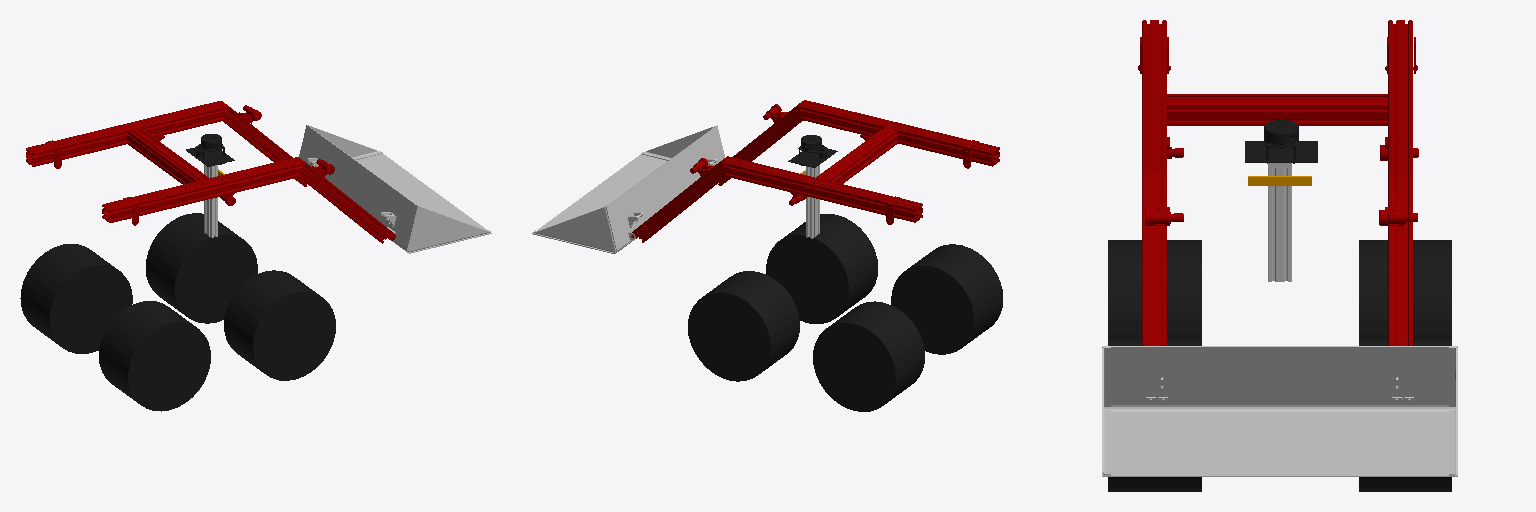
The robot description file, URDF, robot "emcee":
<?xml version="1.0" ?>
<!-- =================================================================================== -->
<!-- |    This document was autogenerated by xacro from emcee.urdf.xacro               | -->
<!-- |    EDITING THIS FILE BY HAND IS NOT RECOMMENDED                                 | -->
<!-- =================================================================================== -->
<robot name="emcee" xmlns:xacro="http://www.ros.org/wiki/xacro">
  <material name="dark_grey">
    <color rgba="0.2 0.2 0.2 1.0"/>
  </material>
  <material name="light_grey">
    <color rgba="0.4 0.4 0.4 1.0"/>
  </material>
  <material name="stl">
    <color rgba="0.8 0.8 0.0 1.0"/>
  </material>
  <material name="red">
    <color rgba="0.95 0.26 0.21 1.0"/>
  </material>
  <material name="black">
    <color rgba="0.15 0.15 0.15 1.0"/>
  </material>
  <material name="green">
    <color rgba="0 1 0 1"/>
  </material>
  <link name="left_front_wheel_link">
    <visual>
      <origin rpy="1.57079632679 0 0" xyz="0 0 0"/>
      <geometry>
        <!-- <mesh filename="package://emcee_description/meshes/visual/wheel.dae"/> -->
        <cylinder length="0.1905" radius="0.156369"/>
      </geometry>
      <material name="black"/>
    </visual>
    <collision>
      <origin rpy="1.57079632679 0 0" xyz="0 0 0"/>
      <geometry>
        <cylinder length="0.1905" radius="0.156369"/>
      </geometry>
    </collision>
    <inertial>
      <!-- <origin xyz="0.032464 0 0" rpy="0 0 0"/> -->
      <origin rpy="1.57079632679 0 1.57079632679" xyz="0 0 0"/>
      <!-- <mass value="1" /> -->
      <mass value="8.6"/>
      <!-- moment of inertia of a cylinder https://en.wikipedia.org/wiki/List_of_moments_of_inertia#List_of_3D_inertia_tensors -->
      <inertia ixx="0.0785782304" ixy="0" ixz="0" iyy="0.0785782304" iyz="0" izz="0.1051404359"/>
      <!-- <inertia
          ixx="${(1.0/12.0)*8.6*(3*wheel_radius**2 + wheel_width**2)}" ixy="0" ixz="0"
          iyy="${(1.0/12.0)*8.6*(3*wheel_radius**2 + wheel_width**2)}" iyz="0"
          izz="${0.5*8.6*wheel_radius}"/> -->
    </inertial>
  </link>
  <gazebo reference="left_front_wheel_link">
    <!-- TODO: set these constants. They are just taken from urdf_tutorial. 09 -->
    <mu1 value="200.0"/>
    <mu2 value="100.0"/>
    <mu1>1.5</mu1>
    <mu2>1.5</mu2>
    <minDepth>0.00</minDepth>
    <material>Gazebo/DarkGrey</material>
  </gazebo>
  <joint name="left_front_wheel" type="continuous">
    <parent link="chassis"/>
    <child link="left_front_wheel_link"/>
    <origin rpy="0 0 0" xyz="0.32245 0.2548 -0.0762"/>
    <axis xyz="0 1 0"/>
  </joint>
  <!-- TODO: figure out what these are for -->
  <transmission name="left_front_wheel_trans">
    <type>transmission_interface/SimpleTransmission</type>
    <joint name="left_front_wheel">
      <hardwareInterface>VelocityJointInterface</hardwareInterface>
    </joint>
    <actuator name="left_front_actuator">
      <mechanicalReduction>1</mechanicalReduction>
    </actuator>
  </transmission>
  <link name="left_rear_wheel_link">
    <visual>
      <origin rpy="1.57079632679 0 0" xyz="0 0 0"/>
      <geometry>
        <!-- <mesh filename="package://emcee_description/meshes/visual/wheel.dae"/> -->
        <cylinder length="0.1905" radius="0.156369"/>
      </geometry>
      <material name="black"/>
    </visual>
    <collision>
      <origin rpy="1.57079632679 0 0" xyz="0 0 0"/>
      <geometry>
        <cylinder length="0.1905" radius="0.156369"/>
      </geometry>
    </collision>
    <inertial>
      <!-- <origin xyz="0.032464 0 0" rpy="0 0 0"/> -->
      <origin rpy="1.57079632679 0 1.57079632679" xyz="0 0 0"/>
      <!-- <mass value="1" /> -->
      <mass value="8.6"/>
      <!-- moment of inertia of a cylinder https://en.wikipedia.org/wiki/List_of_moments_of_inertia#List_of_3D_inertia_tensors -->
      <inertia ixx="0.0785782304" ixy="0" ixz="0" iyy="0.0785782304" iyz="0" izz="0.1051404359"/>
      <!-- <inertia
          ixx="${(1.0/12.0)*8.6*(3*wheel_radius**2 + wheel_width**2)}" ixy="0" ixz="0"
          iyy="${(1.0/12.0)*8.6*(3*wheel_radius**2 + wheel_width**2)}" iyz="0"
          izz="${0.5*8.6*wheel_radius}"/> -->
    </inertial>
  </link>
  <gazebo reference="left_rear_wheel_link">
    <!-- TODO: set these constants. They are just taken from urdf_tutorial. 09 -->
    <mu1 value="200.0"/>
    <mu2 value="100.0"/>
    <mu1>1.5</mu1>
    <mu2>1.5</mu2>
    <minDepth>0.00</minDepth>
    <material>Gazebo/DarkGrey</material>
  </gazebo>
  <joint name="left_rear_wheel" type="continuous">
    <parent link="chassis"/>
    <child link="left_rear_wheel_link"/>
    <origin rpy="0 0 0" xyz="-0.1478 0.2548 -0.0762"/>
    <axis xyz="0 1 0"/>
  </joint>
  <!-- TODO: figure out what these are for -->
  <transmission name="left_rear_wheel_trans">
    <type>transmission_interface/SimpleTransmission</type>
    <joint name="left_rear_wheel">
      <hardwareInterface>VelocityJointInterface</hardwareInterface>
    </joint>
    <actuator name="left_rear_actuator">
      <mechanicalReduction>1</mechanicalReduction>
    </actuator>
  </transmission>
  <link name="right_front_wheel_link">
    <visual>
      <origin rpy="1.57079632679 0 0" xyz="0 0 0"/>
      <geometry>
        <!-- <mesh filename="package://emcee_description/meshes/visual/wheel.dae"/> -->
        <cylinder length="0.1905" radius="0.156369"/>
      </geometry>
      <material name="black"/>
    </visual>
    <collision>
      <origin rpy="1.57079632679 0 0" xyz="0 0 0"/>
      <geometry>
        <cylinder length="0.1905" radius="0.156369"/>
      </geometry>
    </collision>
    <inertial>
      <!-- <origin xyz="0.032464 0 0" rpy="0 0 0"/> -->
      <origin rpy="1.57079632679 0 1.57079632679" xyz="0 0 0"/>
      <!-- <mass value="1" /> -->
      <mass value="8.6"/>
      <!-- moment of inertia of a cylinder https://en.wikipedia.org/wiki/List_of_moments_of_inertia#List_of_3D_inertia_tensors -->
      <inertia ixx="0.0785782304" ixy="0" ixz="0" iyy="0.0785782304" iyz="0" izz="0.1051404359"/>
      <!-- <inertia
          ixx="${(1.0/12.0)*8.6*(3*wheel_radius**2 + wheel_width**2)}" ixy="0" ixz="0"
          iyy="${(1.0/12.0)*8.6*(3*wheel_radius**2 + wheel_width**2)}" iyz="0"
          izz="${0.5*8.6*wheel_radius}"/> -->
    </inertial>
  </link>
  <gazebo reference="right_front_wheel_link">
    <!-- TODO: set these constants. They are just taken from urdf_tutorial. 09 -->
    <mu1 value="200.0"/>
    <mu2 value="100.0"/>
    <mu1>1.5</mu1>
    <mu2>1.5</mu2>
    <minDepth>0.00</minDepth>
    <material>Gazebo/DarkGrey</material>
  </gazebo>
  <joint name="right_front_wheel" type="continuous">
    <parent link="chassis"/>
    <child link="right_front_wheel_link"/>
    <origin rpy="3.14159265359 0 0" xyz="0.32245 -0.2548 -0.0762"/>
    <axis xyz="0 1 0"/>
  </joint>
  <!-- TODO: figure out what these are for -->
  <transmission name="right_front_wheel_trans">
    <type>transmission_interface/SimpleTransmission</type>
    <joint name="right_front_wheel">
      <hardwareInterface>VelocityJointInterface</hardwareInterface>
    </joint>
    <actuator name="right_front_actuator">
      <mechanicalReduction>1</mechanicalReduction>
    </actuator>
  </transmission>
  <link name="right_rear_wheel_link">
    <visual>
      <origin rpy="1.57079632679 0 0" xyz="0 0 0"/>
      <geometry>
        <!-- <mesh filename="package://emcee_description/meshes/visual/wheel.dae"/> -->
        <cylinder length="0.1905" radius="0.156369"/>
      </geometry>
      <material name="black"/>
    </visual>
    <collision>
      <origin rpy="1.57079632679 0 0" xyz="0 0 0"/>
      <geometry>
        <cylinder length="0.1905" radius="0.156369"/>
      </geometry>
    </collision>
    <inertial>
      <!-- <origin xyz="0.032464 0 0" rpy="0 0 0"/> -->
      <origin rpy="1.57079632679 0 1.57079632679" xyz="0 0 0"/>
      <!-- <mass value="1" /> -->
      <mass value="8.6"/>
      <!-- moment of inertia of a cylinder https://en.wikipedia.org/wiki/List_of_moments_of_inertia#List_of_3D_inertia_tensors -->
      <inertia ixx="0.0785782304" ixy="0" ixz="0" iyy="0.0785782304" iyz="0" izz="0.1051404359"/>
      <!-- <inertia
          ixx="${(1.0/12.0)*8.6*(3*wheel_radius**2 + wheel_width**2)}" ixy="0" ixz="0"
          iyy="${(1.0/12.0)*8.6*(3*wheel_radius**2 + wheel_width**2)}" iyz="0"
          izz="${0.5*8.6*wheel_radius}"/> -->
    </inertial>
  </link>
  <gazebo reference="right_rear_wheel_link">
    <!-- TODO: set these constants. They are just taken from urdf_tutorial. 09 -->
    <mu1 value="200.0"/>
    <mu2 value="100.0"/>
    <mu1>1.5</mu1>
    <mu2>1.5</mu2>
    <minDepth>0.00</minDepth>
    <material>Gazebo/DarkGrey</material>
  </gazebo>
  <joint name="right_rear_wheel" type="continuous">
    <parent link="chassis"/>
    <child link="right_rear_wheel_link"/>
    <origin rpy="3.14159265359 0 0" xyz="-0.1478 -0.2548 -0.0762"/>
    <axis xyz="0 1 0"/>
  </joint>
  <!-- TODO: figure out what these are for -->
  <transmission name="right_rear_wheel_trans">
    <type>transmission_interface/SimpleTransmission</type>
    <joint name="right_rear_wheel">
      <hardwareInterface>VelocityJointInterface</hardwareInterface>
    </joint>
    <actuator name="right_rear_actuator">
      <mechanicalReduction>1</mechanicalReduction>
    </actuator>
  </transmission>
  <link name="base_link"/>
  <joint name="chassis_base_joiint" type="fixed">
    <parent link="base_link"/>
    <child link="chassis"/>
    <origin xyz="0 0 0.232569"/>
  </joint>
  <link name="chassis">
    <visual>
      <origin rpy="0 0 0" xyz="0 0 0"/>
      <geometry>
        <mesh filename="package://emcee_description/meshes/visual/chassis.dae"/>
      </geometry>
      <material name="red"/>
    </visual>
    <collision>
      <origin xyz="0.03 0 0"/>
      <geometry>
        <box size="0.81 0.3191 0.24765"/>
      </geometry>
    </collision>
    <inertial>
      <origin rpy="0 0 0" xyz="0.1 0 0"/>
      <!-- <origin xyz="0.39809 0.40556 0.64213" rpy="0 0 0" /> -->
      <!-- <mass value="1" /> -->
      <mass value="18.65"/>
      <inertia ixx="0.541922" ixy="2.8e-5" ixz="-0.01424" iyy="1.50291" iyz="0.000144" izz="1.71709"/>
    </inertial>
  </link>
  <link name="sled">
    <visual>
      <geometry>
        <mesh filename="package://emcee_description/meshes/visual/sled.dae"/>
      </geometry>
      <origin rpy="0 0 0" xyz="0 0 0"/>
      <material name="green"/>
    </visual>
    <collision>
      <origin xyz="0 0 0"/>
      <geometry>
        <mesh filename="package://emcee_description/meshes/collision/sled_simple.dae"/>
        <!-- <box size="${sled_width} ${sled_length} ${sled_height}"/> -->
      </geometry>
    </collision>
    <inertial>
      <origin rpy="0 0 0" xyz="0 0 0"/>
      <!-- <origin xyz="0.2882 0.052765 0.007624" rpy="0 0 0" /> -->
      <!-- <mass value="1" /> -->
      <mass value="12.25"/>
      <inertia ixx="0.225942" ixy="-5.6e-5" ixz="0.041831" iyy="0.162776" iyz="4.5e-5" izz="0.312502"/>
    </inertial>
  </link>
  <joint name="sled_joint" type="prismatic">
    <parent link="chassis"/>
    <child link="sled"/>
    <axis rpy="0 0 0" xyz="1 0 0"/>
    <limit effort="1000" lower="-0.204975" upper="0.103375" velocity="0.5"/>
    <origin rpy="0 0 0" xyz="0 0 0.163825"/>
  </joint>
  <link name="sensor_post">
    <visual>
      <geometry>
        <mesh filename="package://emcee_description/meshes/visual/sensor_post.dae"/>
      </geometry>
    </visual>
    <collision>
      <origin xyz="0 0 0"/>
      <geometry>
        <box size="0.0254 0.0508 0.3048"/>
      </geometry>
    </collision>
    <inertial>
      <!-- xyz = 0.1365 0.11018 0.25799 -->
      <origin rpy="0 0 0" xyz="0 0 0"/>
      <!-- <mass value="1"/> -->
      <mass value="0.421686"/>
      <inertia ixx="0.003291" ixy="-2e-6" ixz="0" iyy="0.00014" iyz="0" izz="0.003203"/>
    </inertial>
  </link>
  <joint name="sensor_post_joint" type="fixed">
    <parent link="sled"/>
    <child link="sensor_post"/>
    <origin rpy="0 0 0" xyz="0.20955 0 0.168275"/>
  </joint>
  <link name="ir_camera">
    <visual>
      <geometry>
        <box size="0.007 0.130 0.020"/>
      </geometry>
    </visual>
    <collision>
      <geometry>
        <box size="0.007 0.130 0.020"/>
      </geometry>
    </collision>
    <inertial>
      <origin rpy="0 0 0" xyz="0 0 0"/>
      <mass value="0.1"/>
      <inertia ixx="1e-09" ixy="0" ixz="0" iyy="1e-09" iyz="0" izz="1e-09"/>
    </inertial>
  </link>
  <joint name="ir_camera_joint" type="fixed">
    <parent link="sensor_post"/>
    <child link="ir_camera"/>
    <!-- TODO: get exact position -->
    <origin rpy="0 0 0" xyz="0.015 0 .07"/>
  </joint>
  <!-- TODO: fix joints -->
  <link name="laser">
    <visual>
      <origin xyz="0 0 0"/>
      <geometry>
        <mesh filename="package://emcee_description/meshes/visual/laser.dae"/>
      </geometry>
      <material name="black"/>
    </visual>
    <collision>
      <origin xyz="0 0 0"/>
      <geometry>
        <box size="0.08 0.1 0.1"/>
      </geometry>
    </collision>
    <inertial>
      <!-- xyz = "0.13726 0.267092 0.257687" -->
      <origin rpy="0 0 0" xyz="0 0 0"/>
      <!-- <mass value="1"/> -->
      <mass value="0.193569"/>
      <inertia ixx="0.00021" ixy="1.4e-5" ixz="1e-6" iyy="0.000203" iyz="0" izz="0.00017"/>
    </inertial>
  </link>
  <!-- <joint name="laser_joint" type="revolute">
  	<parent link="sensor_post" />
  	<child link="laser" />
  	<origin xyz="0 0 ${(sensor_mount_height/2)}" rpy="0 0 3.14159" />
  	<axis xyz="0 1 0" />
  	<limit lower="-0.7853975" upper="0" effort="1000" velocity="1" />
  </joint> -->
  <joint name="laser_joint" type="fixed">
    <parent link="sensor_post"/>
    <child link="laser"/>
    <origin rpy="0 0 3.14159" xyz="0 0 0.1524"/>
  </joint>
  <link name="arm">
    <visual>
      <origin xyz="0.01 -.01 .02"/>
      <geometry>
        <mesh filename="package://emcee_description/meshes/visual/arms.dae"/>
      </geometry>
    </visual>
    <collision>
      <origin xyz="0.01 -.01 .02"/>
      <geometry>
        <mesh filename="package://emcee_description/meshes/collision/arms_simple.dae"/>
      </geometry>
    </collision>
    <inertial>
      <!-- xyz="-0.024425 0.120927 -0.01018" -->
      <origin rpy="0 0 0" xyz="0.4 0 0"/>
      <!-- <mass value="1"/> -->
      <mass value="6.14067"/>
      <inertia ixx="0.581471" ixy="-6.6e-5" ixz="-3e-6" iyy="0.39687" iyz="-0.128097" izz="0.87075"/>
    </inertial>
  </link>
  <!-- .236 -->
  <joint name="arm_joint" type="revolute">
    <parent link="sled"/>
    <child link="arm"/>
    <origin xyz="-0.236 0 0.276325"/>
    <axis xyz="0 1 0"/>
    <limit effort="1000" lower="-0.253177" upper="0.30918" velocity="1"/>
  </joint>
  <link name="bucket">
    <visual>
      <origin xyz="0.00 0 0.00"/>
      <geometry>
        <mesh filename="package://emcee_description/meshes/visual/bucket.dae"/>
        
        /&gt;
      
      </geometry>
    </visual>
    <collision>
      <origin xyz="0.00 0 0.00"/>
      <geometry>
        <mesh filename="package://emcee_description/meshes/collision/bucket_simple.dae"/>
      </geometry>
    </collision>
    <inertial>
      <!-- xyz="-0.304153 0.030822 -0.01735" -->
      <origin rpy="0 0 0" xyz="0.15 0 0.05"/>
      <!-- <mass value="1"/> -->
      <mass value="3.92566"/>
      <inertia ixx="0.216901" ixy="0" ixz="-0.007835" iyy="0.042509" iyz="0" izz="0.243738"/>
    </inertial>
  </link>
  <joint name="bucket_joint" type="revolute">
    <parent link="arm"/>
    <child link="bucket"/>
    <axis xyz="0 1 0"/>
    <origin xyz=".965 0 -0.282"/>
    <limit effort="1000" lower="-0.4" upper="1.570795" velocity="1"/>
  </joint>
  <!-- TODO: This is from the copy and paste: Make this internal_imu_link or something, and use a mixed-in xacro
       to supply the joint between it and imu_link. This is important so that imu_link
       always points to the "active" IMU. When an upgrade IMU is connected, the
       internal_imu_link should remain, but imu_link should point to the upgrade one. -->
  <link name="imu_link">
    <inertial>
      <mass value="0.001"/>
      <origin rpy="0 0 0" xyz="0 0 0"/>
      <inertia ixx="1e-09" ixy="0.0" ixz="0.0" iyy="1e-09" iyz="0.0" izz="1e-09"/>
    </inertial>
  </link>
  <joint name="imu_joint" type="fixed">
    <parent link="chassis"/>
    <child link="imu_link"/>
  </joint>
  <!-- ros_control plugin -->
  <gazebo>
    <plugin filename="libgazebo_ros_control.so" name="gazebo_ros_control">
      <robotNamespace>/</robotNamespace>
      <robotSimType>gazebo_ros_control/DefaultRobotHWSim</robotSimType>
    </plugin>
  </gazebo>
  <!-- links -->
  <gazebo reference="chassis">
    <mu1>0.2</mu1>
    <mu2>0.2</mu2>
  </gazebo>
  <gazebo reference="sled">
    <mu1>0.2</mu1>
    <mu2>0.2</mu2>
    <implicitSpringDamper>1</implicitSpringDamper>
  </gazebo>
  <gazebo reference="sensor_post">
    <mu1>0.2</mu1>
    <mu2>0.2</mu2>
  </gazebo>
  <gazebo reference="laser">
    <mu1>0.2</mu1>
    <mu2>0.2</mu2>
  </gazebo>
  <gazebo reference="arm">
    <mu1>0.2</mu1>
    <mu2>0.2</mu2>
    <minDepth>0.00</minDepth>
  </gazebo>
  <gazebo reference="ir_camera">
    <material>Gazebo/Blue</material>
  </gazebo>
  <gazebo reference="imu_link">
    <turnGravityOff>false</turnGravityOff>
  </gazebo>
  <!-- lidar -->
  <gazebo reference="laser">
    <sensor name="laser_sensor" type="gpu_ray">
      <pose>0 0 0 0 0 0</pose>
      <visualize>false</visualize>
      <update_rate>10</update_rate>
      <ray>
        <scan>
          <horizontal>
            <samples>4000</samples>
            <resolution>0.9</resolution>
            <min_angle>-3.1415926</min_angle>
            <max_angle>3.1415926</max_angle>
          </horizontal>
        </scan>
        <range>
          <min>0.15</min>
          <max>6.0</max>
          <resolution>0.01</resolution>
        </range>
        <noise>
          <type>gaussian</type>
          <!-- Noise parameters based on published spec for Hokuyo laser
             achieving "+-30mm" accuracy at range < 10m.  A mean of 0.0m and
             stddev of 0.01m will put 99.7% of samples within 0.03m of the true
             reading. -->
          <mean>0.0</mean>
          <stddev>0.05</stddev>
        </noise>
      </ray>
      <plugin filename="libgazebo_ros_gpu_laser.so" name="gazebo_ros_head_hokuyo_controller">
        <topicName>/emcee/laser/scan</topicName>
        <frameName>laser</frameName>
      </plugin>
    </sensor>
  </gazebo>
  <gazebo>
    <plugin filename="libhector_gazebo_ros_imu.so" name="imu_controller">
      <robotNamespace>/</robotNamespace>
      <updateRate>50.0</updateRate>
      <bodyName>imu_link</bodyName>
      <topicName>imu/data</topicName>
      <accelDrift>0.005 0.005 0.005</accelDrift>
      <accelGaussianNoise>0.005 0.005 0.005</accelGaussianNoise>
      <rateDrift>0.005 0.005 0.005 </rateDrift>
      <rateGaussianNoise>0.005 0.005 0.005 </rateGaussianNoise>
      <headingDrift>0.005</headingDrift>
      <headingGaussianNoise>0.005</headingGaussianNoise>
    </plugin>
  </gazebo>
  <!-- camera -->
  <!-- TODO: try to get the openni plugin working. This is currently a standard camera. -->
  <gazebo reference="ir_camera">
    <update_rate>30.0</update_rate>
    <sensor name="camera1" type="camera">
      <camera name="head">
        <horizontal_fov>1.3962634</horizontal_fov>
        <image>
          <width>800</width>
          <height>800</height>
          <format>R8G8B8</format>
        </image>
        <clip>
          <near>0.02</near>
          <far>300</far>
        </clip>
        <noise>
          <type>gaussian</type>
          <mean>0.0</mean>
          <stddev>0.007</stddev>
        </noise>
      </camera>
      <plugin filename="libgazebo_ros_camera.so" name="camera_controller">
        <alwaysOn>true</alwaysOn>
        <updateRate>0.0</updateRate>
        <cameraName>emcee/camera1</cameraName>
        <imageTopicName>image_raw</imageTopicName>
        <cameraInfoTopicName>camera_info</cameraInfoTopicName>
        <frameName>camera_link</frameName>
        <hackBaseline>0.07</hackBaseline>
        <distortionK1>0.0</distortionK1>
        <distortionK2>0.0</distortionK2>
        <distortionK3>0.0</distortionK3>
        <distortionT1>0.0</distortionT1>
        <distortionT2>0.0</distortionT2>
      </plugin>
    </sensor>
  </gazebo>
  <!-- <gazebo>
  <plugin name="ir_camera_controller" filename="libgazebo_ros_openni_kinect.so">
    <baseline>0.2</baseline>
    <alwaysOn>true</alwaysOn>
    <updateRate>1.0</updateRate>
    <cameraName>camera1_ir</cameraName>
    <imageTopicName>/camera1/depth/image_raw</imageTopicName>
    <cameraInfoTopicName>/camera1/depth/camera_info</cameraInfoTopicName>
    <depthImageTopicName>/camera1/depth/image_raw</depthImageTopicName>
    <depthImageInfoTopicName>/camera1/depth/camera_info</depthImageInfoTopicName>
    <pointCloudTopicName>/camera1/depth/points</pointCloudTopicName>
    <frameName>ir_camera</frameName>
    <pointCloudCutoff>0.5</pointCloudCutoff>
    <distortionK1>0.00000001</distortionK1>
    <distortionK2>0.00000001</distortionK2>
    <distortionK3>0.00000001</distortionK3>
    <distortionT1>0.00000001</distortionT1>
    <distortionT2>0.00000001</distortionT2>
    <CxPrime>0</CxPrime>
    <Cx>0</Cx>
    <Cy>0</Cy>
    <focalLength>0</focalLength>
    <hackBaseline>0</hackBaseline>
  </plugin>
</gazebo> -->
  <!-- <gazebo>
  <plugin name="skid_steer_drive_controller" filename="libgazebo_ros_skid_steer_drive.so">
    <updateRate>100.0</updateRate>
    <robotNamespace>/emcee</robotNamespace>
    <leftFrontJoint>left_front_wheel</leftFrontJoint>
    <rightFrontJoint>right_front_wheel</rightFrontJoint>
    <leftRearJoint>left_rear_wheel</leftRearJoint>
    <rightRearJoint>right_rear_wheel</rightRearJoint>
    <wheelDiameter>${2*wheel_radius}</wheelDiameter>
    <robotBaseFrame>base_link</robotBaseFrame>
    <torque>20</torque>
    <topicName>cmd_vel</topicName>
    <broadcastTF>true</broadcastTF>
  </plugin>
</gazebo> -->
  <!-- wheel transmissions are done within the wheel macro. -->
  <!-- <xacro:include filename="emcee.transmission" /> -->
  <transmission name="sled_trans">
    <type>transmission_interface/SimpleTransmission</type>
    <joint name="sled_joint">
      <hardwareInterface>EffortJointInterface</hardwareInterface>
    </joint>
    <actuator name="sled_linear_actuator">
      <hardwareInterface>EffortJointInterface</hardwareInterface>
      <mechanicalReduction>1</mechanicalReduction>
    </actuator>
  </transmission>
  <transmission name="arm_trans">
    <type>transmission_interface/SimpleTransmission</type>
    <joint name="arm_joint">
      <hardwareInterface>EffortJointInterface</hardwareInterface>
    </joint>
    <actuator name="arm_linear_actuators">
      <hardwareInterface>EffortJointInterface</hardwareInterface>
      <mechanicalReduction>1</mechanicalReduction>
    </actuator>
  </transmission>
  <transmission name="bucket_trans">
    <type>transmission_interface/SimpleTransmission</type>
    <joint name="bucket_joint">
      <hardwareInterface>EffortJointInterface</hardwareInterface>
    </joint>
    <actuator name="bucket_linear_actuator">
      <hardwareInterface>EffortJointInterface</hardwareInterface>
      <mechanicalReduction>1</mechanicalReduction>
    </actuator>
  </transmission>
</robot>
<!-- TODO: scale up the collision DAEs.  When I reduced the triangle count (complexity), the size of the shapes dimished.
The collisions should be bigger than reality.  Scale them up in Blender (s command) but so they still fit. -->
<!-- TODO: add macros to replace hard coded values -->
<!-- TODO: transmission tags -->

--- Facts derived from the render (not from the file) ---
The picture shows the robot from 3 angles, left to right: view 1: azimuth 30°, elevation 25°; view 2: azimuth 150°, elevation 25°; view 3: azimuth 270°, elevation 25°; orthographic projection.
Robot: emcee — 13 links, 12 joints (2 revolute, 4 continuous, 1 prismatic, 5 fixed); root link base_link; default pose: every joint at zero.
Links seen in each view (by area): view 1: arm, bucket, right_front_wheel_link, right_rear_wheel_link, left_rear_wheel_link, left_front_wheel_link, laser, sensor_post; view 2: arm, bucket, left_front_wheel_link, left_rear_wheel_link, right_rear_wheel_link, right_front_wheel_link, laser, sensor_post; view 3: bucket, arm, right_rear_wheel_link, left_rear_wheel_link, sensor_post, laser, right_front_wheel_link, left_front_wheel_link, ir_camera.
Link boxes in pixels (x1,y1,x2,y2): arm: (26, 101, 395, 243); bucket: (299, 125, 491, 253); right_front_wheel_link: (224, 270, 335, 380); right_rear_wheel_link: (99, 301, 210, 411); left_rear_wheel_link: (20, 244, 132, 353); left_front_wheel_link: (146, 213, 257, 323); laser: (186, 134, 234, 166); sensor_post: (204, 164, 217, 237); arm: (631, 100, 999, 242); bucket: (532, 125, 724, 253); left_front_wheel_link: (688, 271, 799, 381); left_rear_wheel_link: (813, 301, 924, 411); right_rear_wheel_link: (891, 244, 1002, 354); right_front_wheel_link: (766, 214, 877, 323); laser: (788, 135, 837, 167); sensor_post: (806, 165, 819, 238); bucket: (1102, 346, 1457, 476); arm: (1138, 20, 1418, 345); right_rear_wheel_link: (1108, 240, 1201, 337); left_rear_wheel_link: (1359, 240, 1451, 337); sensor_post: (1268, 163, 1291, 281); laser: (1245, 119, 1317, 163); right_front_wheel_link: (1108, 338, 1201, 491); left_front_wheel_link: (1359, 338, 1451, 491); ir_camera: (1248, 176, 1311, 185).
Size in the robot's own frame: 1.39 by 0.7236 by 0.7522 metres.
Meshes: 6 distinct files referenced, 4 mesh visuals loaded (4 Collada DAE); not drawn: 2 (reference not matched to a file when rendering).
